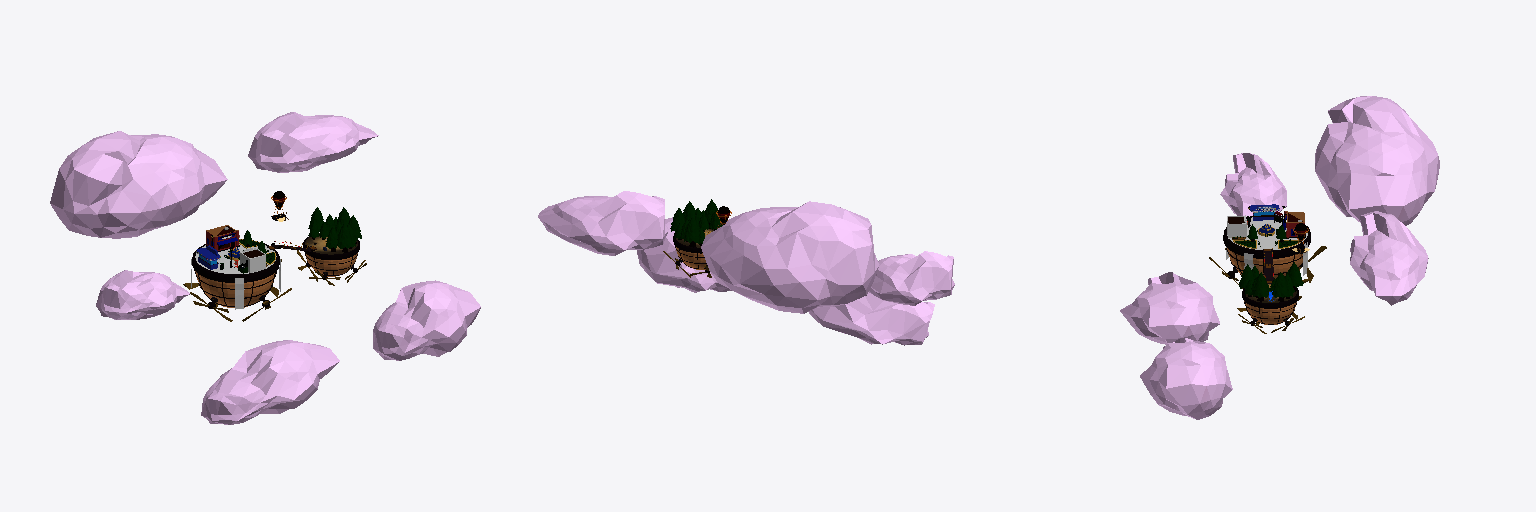
3 views of the same model, side by side, from view 1: azimuth 30°, elevation 25°; view 2: azimuth 150°, elevation 25°; view 3: azimuth 270°, elevation 25° (orthographic).
Parts seen in each view (by area): view 1: Icosphere.007_Icosphere.001, Icosphere.009_Icosphere.003, Icosphere.010_Icosphere.004, Icosphere.012_Icosphere.021, Icosphere.008_Icosphere.002, Sphere_Sphere.012, Sphere.001, Cylinder_Cylinder.002; view 2: Icosphere.007_Icosphere.001, Icosphere.012_Icosphere.021, Icosphere.009_Icosphere.003, Icosphere.008_Icosphere.002, Icosphere.010_Icosphere.004, Sphere.001; view 3: Icosphere.007_Icosphere.001, Icosphere.010_Icosphere.004, Icosphere.012_Icosphere.021, Icosphere.009_Icosphere.003, Icosphere.008_Icosphere.002, Sphere_Sphere.012, Sphere.001.
Part boxes in pixels (bbox=[...]): Icosphere.007_Icosphere.001: bbox=[50, 131, 227, 238]; Icosphere.009_Icosphere.003: bbox=[201, 340, 339, 424]; Icosphere.010_Icosphere.004: bbox=[373, 280, 480, 360]; Icosphere.012_Icosphere.021: bbox=[248, 112, 378, 172]; Icosphere.008_Icosphere.002: bbox=[96, 270, 189, 319]; Sphere_Sphere.012: bbox=[192, 240, 279, 307]; Sphere.001: bbox=[303, 233, 359, 276]; Cylinder_Cylinder.002: bbox=[206, 225, 239, 251]; Icosphere.007_Icosphere.001: bbox=[701, 201, 879, 313]; Icosphere.012_Icosphere.021: bbox=[538, 191, 668, 255]; Icosphere.009_Icosphere.003: bbox=[809, 292, 934, 345]; Icosphere.008_Icosphere.002: bbox=[869, 251, 954, 305]; Icosphere.010_Icosphere.004: bbox=[637, 217, 731, 292]; Sphere.001: bbox=[673, 229, 713, 269]; Icosphere.007_Icosphere.001: bbox=[1315, 96, 1439, 225]; Icosphere.010_Icosphere.004: bbox=[1140, 338, 1232, 419]; Icosphere.012_Icosphere.021: bbox=[1350, 211, 1428, 305]; Icosphere.009_Icosphere.003: bbox=[1120, 272, 1219, 344]; Icosphere.008_Icosphere.002: bbox=[1220, 153, 1286, 216]; Sphere_Sphere.012: bbox=[1223, 216, 1310, 278]; Sphere.001: bbox=[1242, 284, 1298, 324].
Bounding box in the file's own units: 205 × 121 × 166.
Materials: 90 (10 with a texture image).